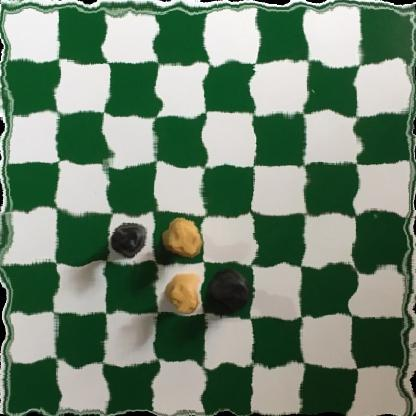black-rook: (210, 266, 255, 312), (111, 221, 149, 256)
white-rook: (164, 214, 203, 261), (165, 269, 202, 313)
